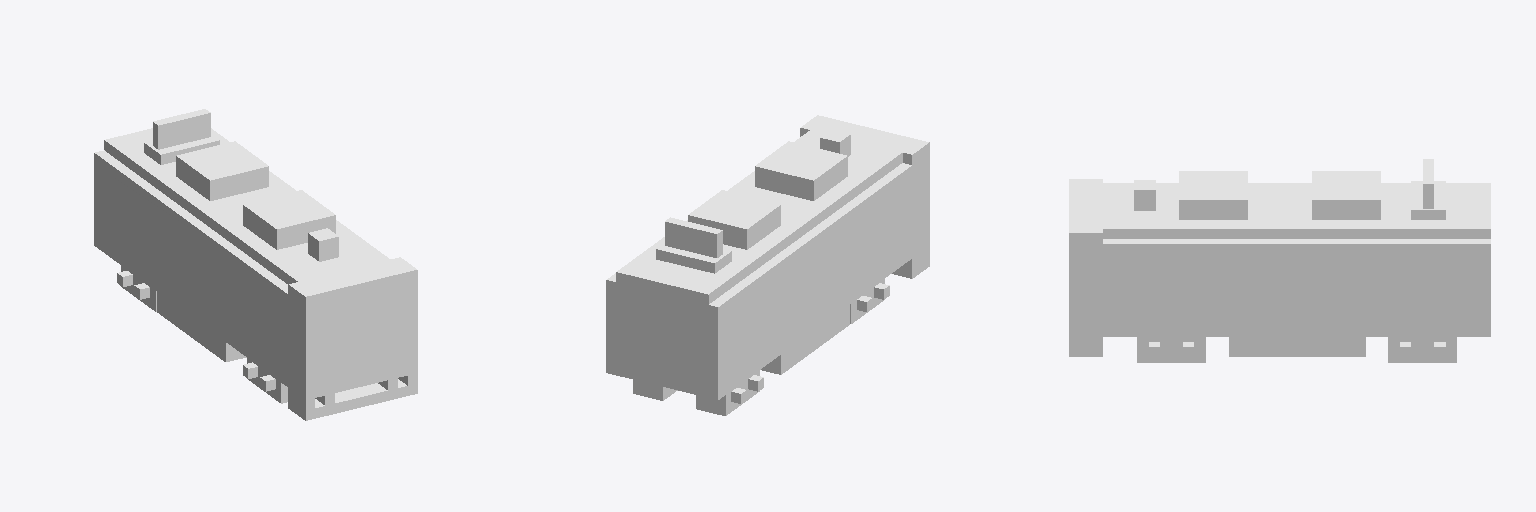
The model's file is train1.obj.
3 views of the same model, side by side, from view 1: azimuth 30°, elevation 25°; view 2: azimuth 150°, elevation 25°; view 3: azimuth 270°, elevation 25° (orthographic).
Visible parts, largest first — view 1: object 1; view 2: object 1; view 3: object 1.
Part boxes in pixels (left/top/right/bottom): object 1: left=94, top=109, right=417, bottom=420; object 1: left=606, top=115, right=929, bottom=415; object 1: left=1069, top=159, right=1490, bottom=362.
Bounding box in the file's own units: 3.4 × 4.9 × 11.1.